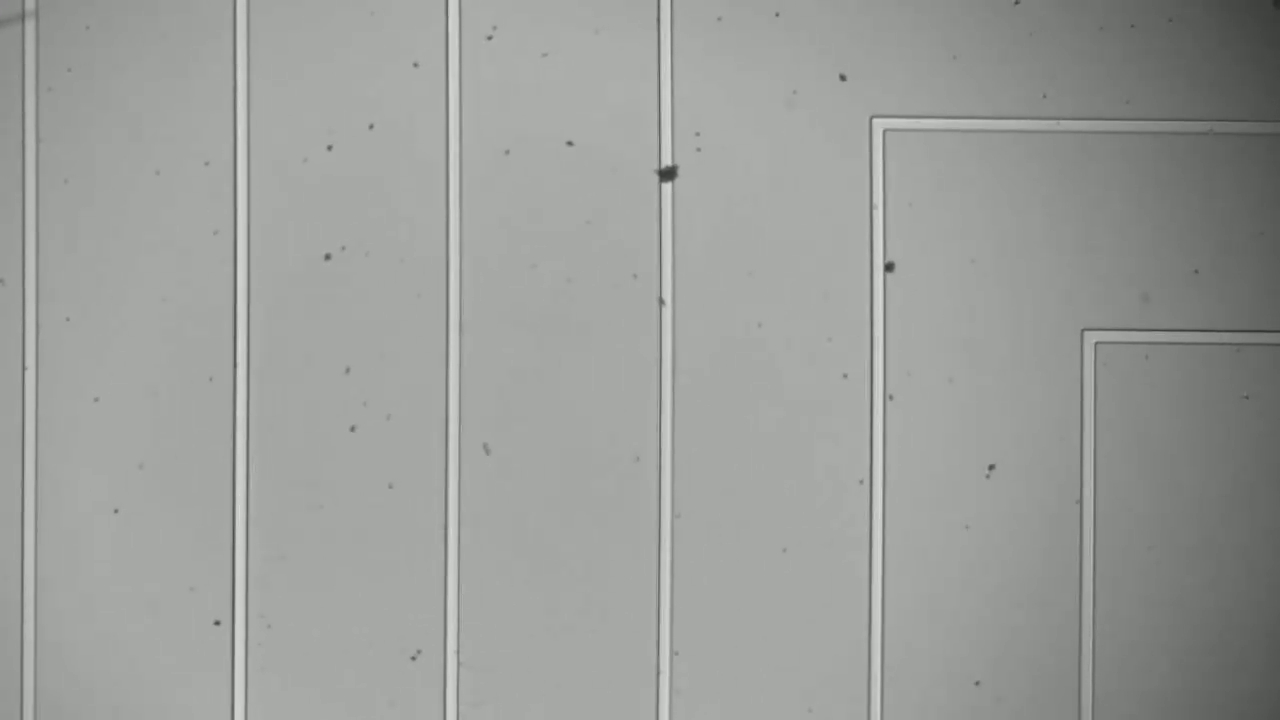stains_enbedded: (651, 157, 683, 192)
